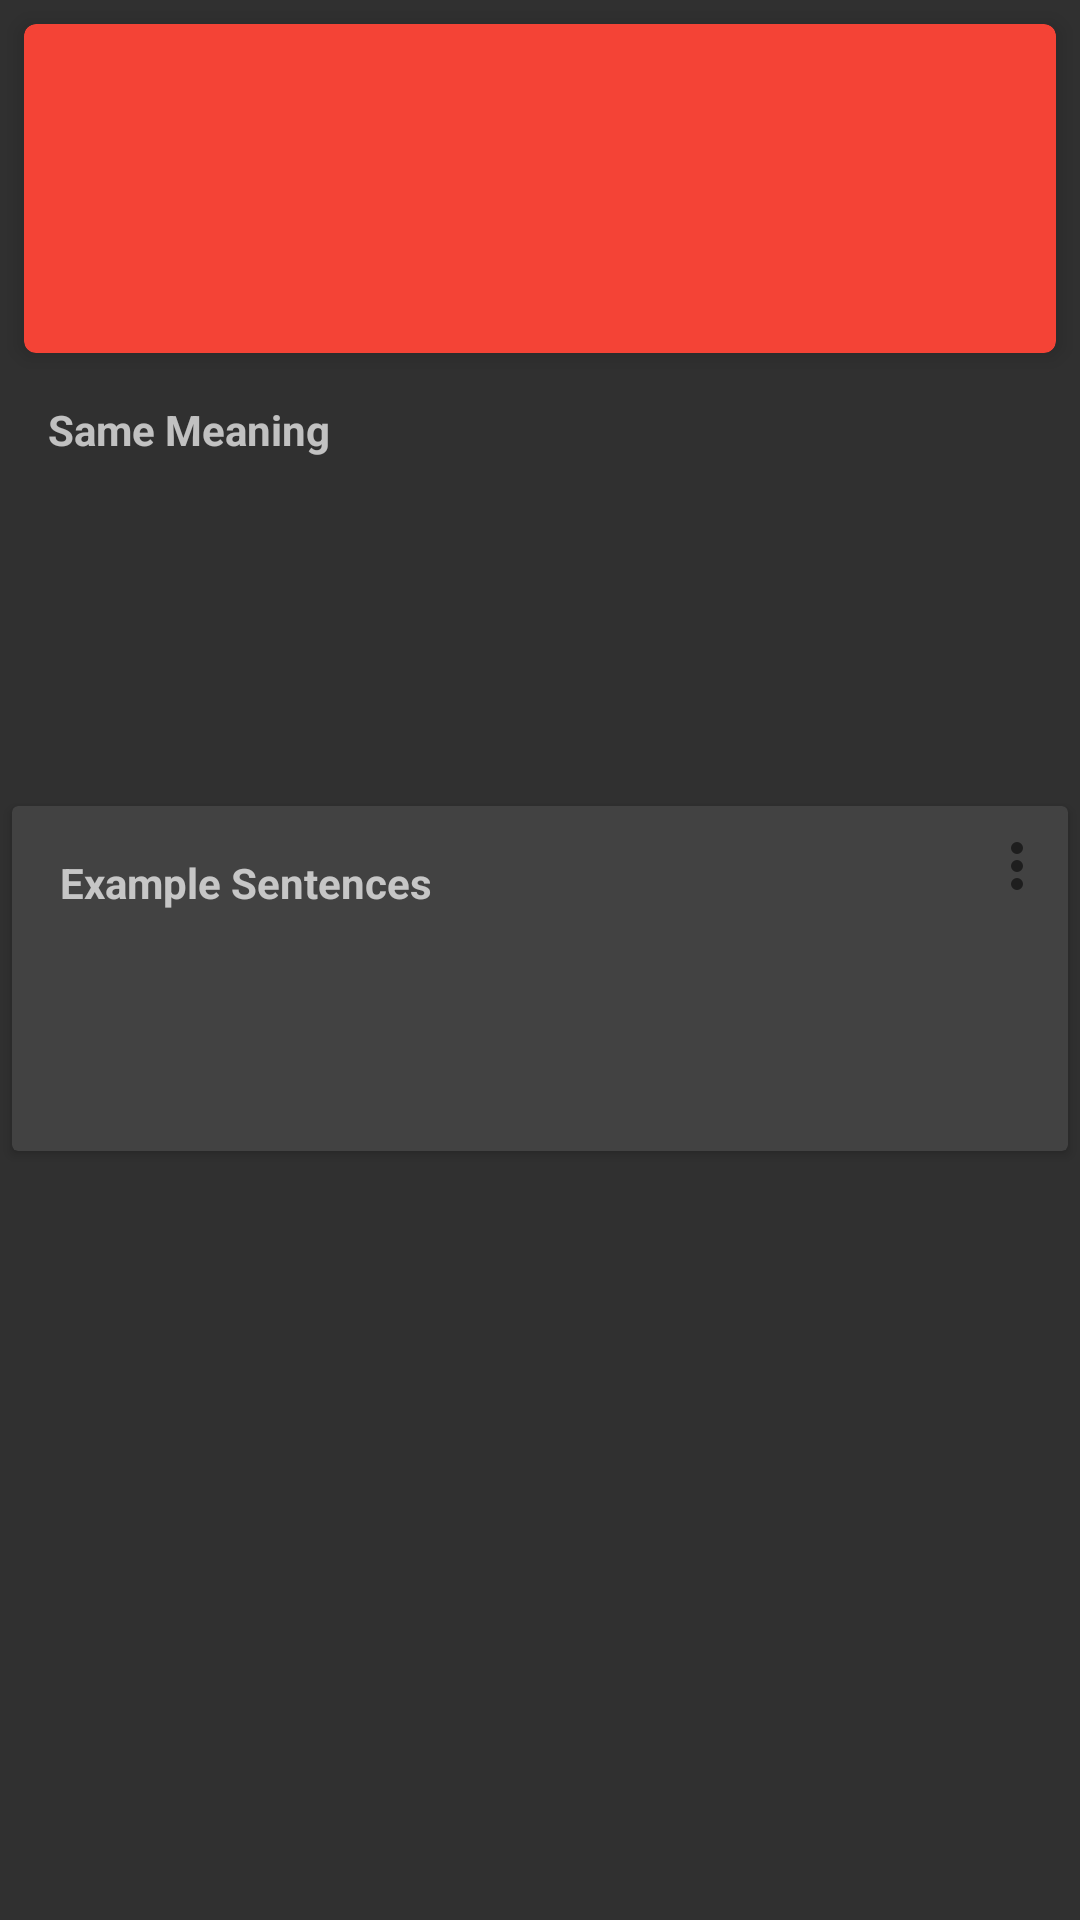

Screen size 1080*1920. Icon name, then its box in pixels as (x1,y1,x2,y2):
overflow: (1011,842,1023,890)
